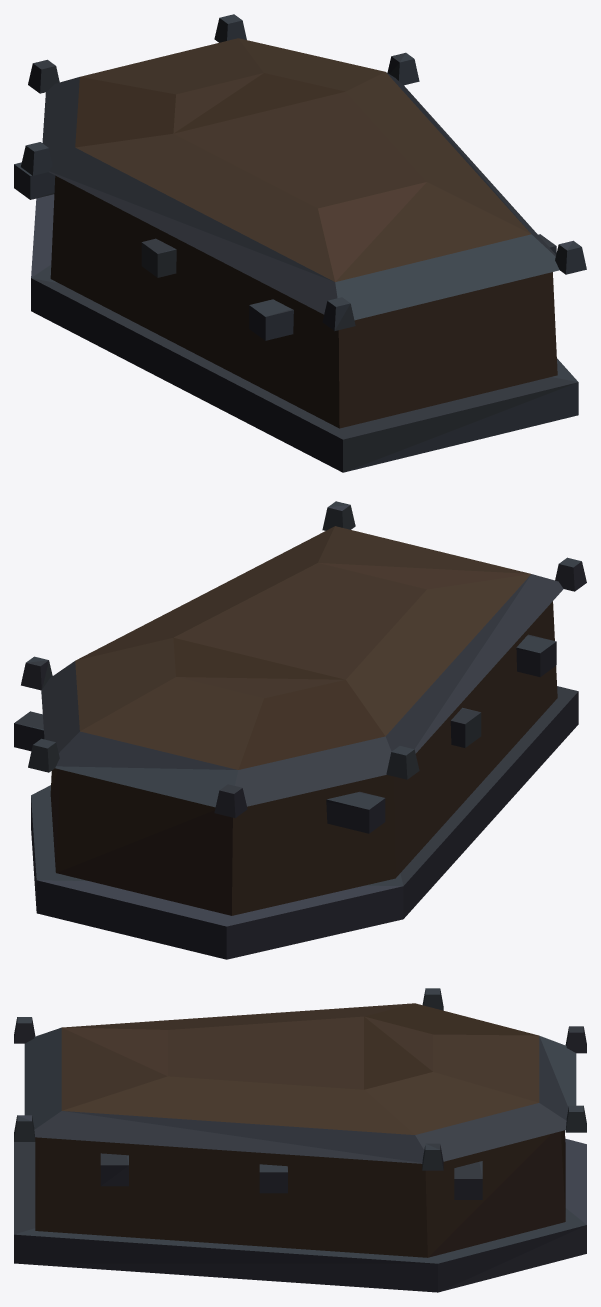
Rendered from coffin.gltf.
The picture shows the model from 3 angles, top to bottom: view 1: azimuth 30°, elevation 25°; view 2: azimuth 150°, elevation 25°; view 3: azimuth 270°, elevation 25°; orthographic projection. The views are drawn at different scales.
Parts seen in each view (by area): view 1: coffin; view 2: coffin; view 3: coffin.
Boxes of the visible parts, bbox=[...] form: coffin: bbox=[14, 14, 586, 472]; coffin: bbox=[14, 501, 586, 959]; coffin: bbox=[14, 988, 586, 1292].
Bounding box in the file's own units: 2.2 × 1 × 3.24.
Materials: 1 (1 with a texture image).
